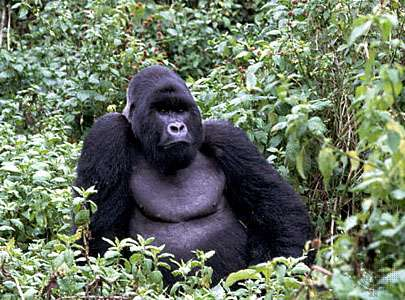Goriila: (57, 41, 325, 286)
